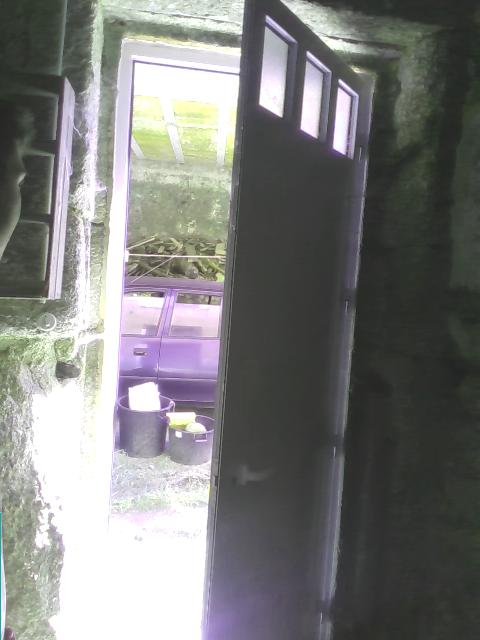semi_door: (104, 1, 407, 639)
